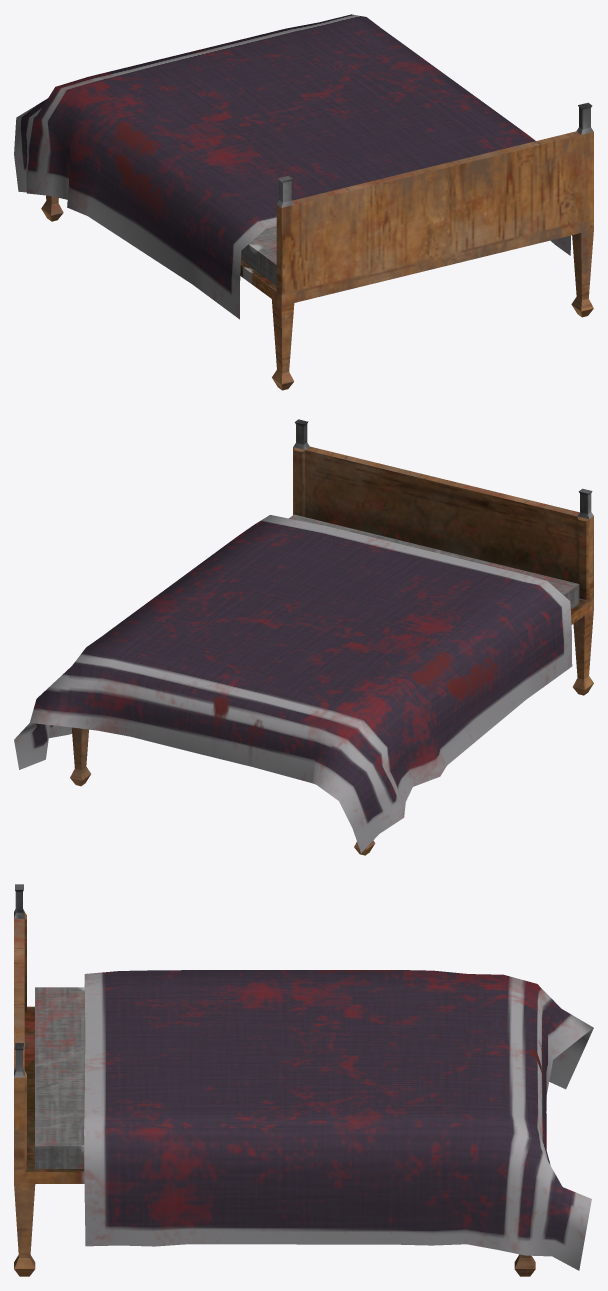
File: bed3.glb
3 renders of one model, top to bottom at view 1: azimuth 30°, elevation 25°; view 2: azimuth 150°, elevation 25°; view 3: azimuth 270°, elevation 25°, orthographic. The views are drawn at different scales.
Parts seen in each view (by area): view 1: planehiughh001, Box001, MatLow; view 2: planehiughh001, Box001, MatLow; view 3: planehiughh001, MatLow, Box001.
Part boxes in pixels (<box>): planehiughh001: <box>14,14,570,319</box>; Box001: <box>41,102,593,390</box>; MatLow: <box>241,226,276,285</box>; planehiughh001: <box>14,515,572,852</box>; Box001: <box>70,419,593,855</box>; MatLow: <box>289,514,579,609</box>; planehiughh001: <box>84,970,593,1270</box>; MatLow: <box>35,987,85,1168</box>; Box001: <box>14,884,535,1276</box>.
Bounding box in the file's own units: 1.8 × 0.97 × 2.22.
1 material, 1 textured.
